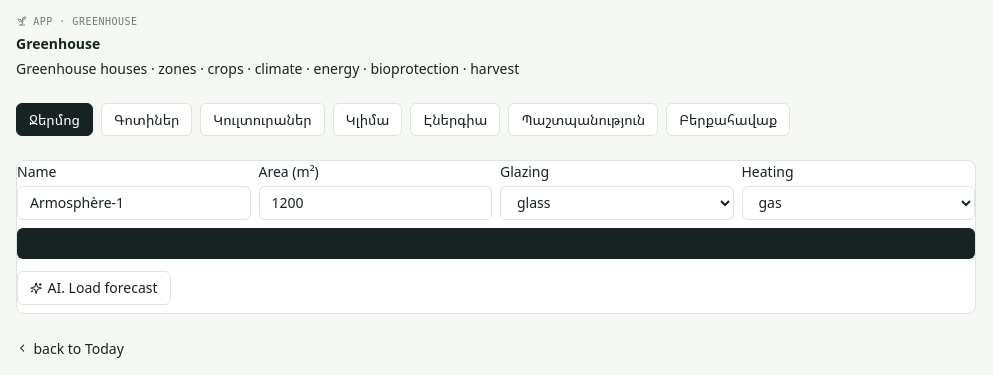
Test: Greenhouse — tab switching › clicking the climate tab reveals the greenhouse-climate-panel panel
Click the tab with test id "greenhouse-tab-climate" at [368, 119], box [333,102,402,136]
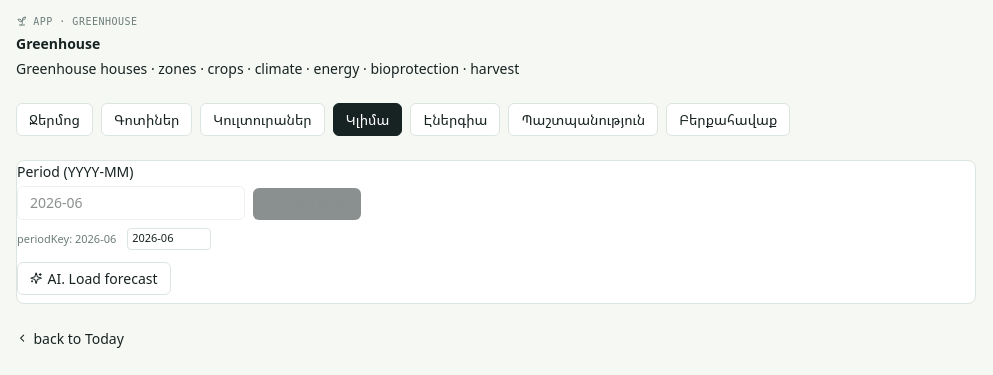
Now the element with test id "greenhouse-climate-panel" is shown, box [16,160,976,304]
